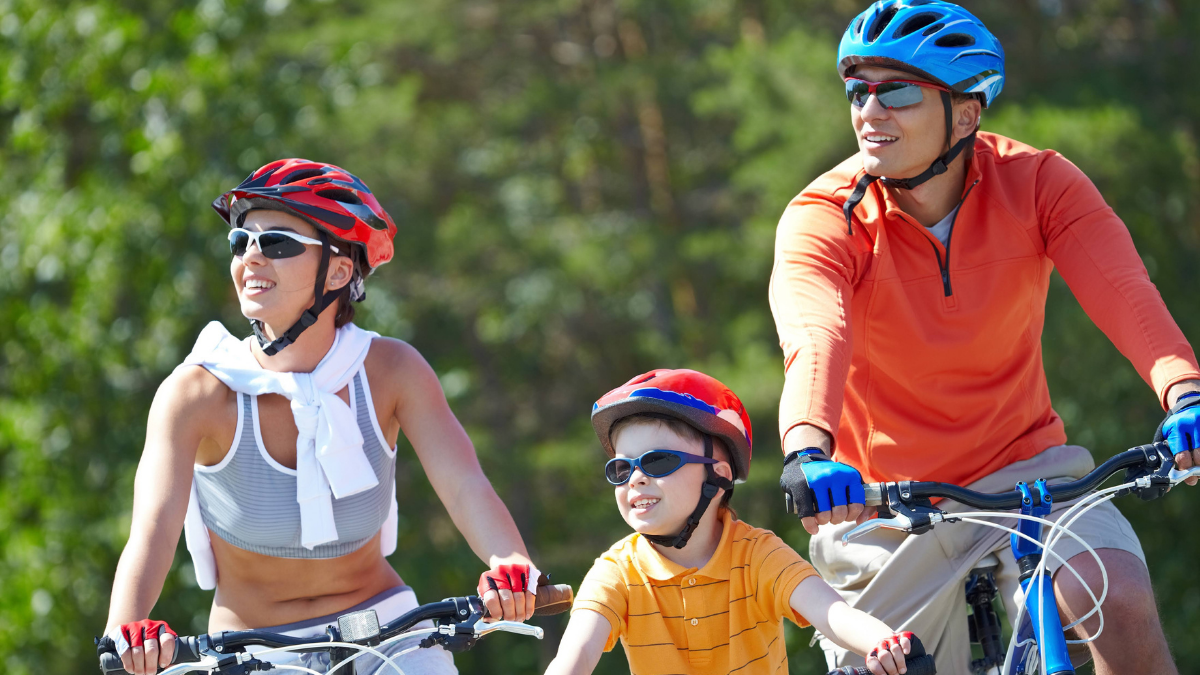helmet: (837, 1, 1006, 188), (211, 157, 398, 325), (590, 367, 752, 549)
